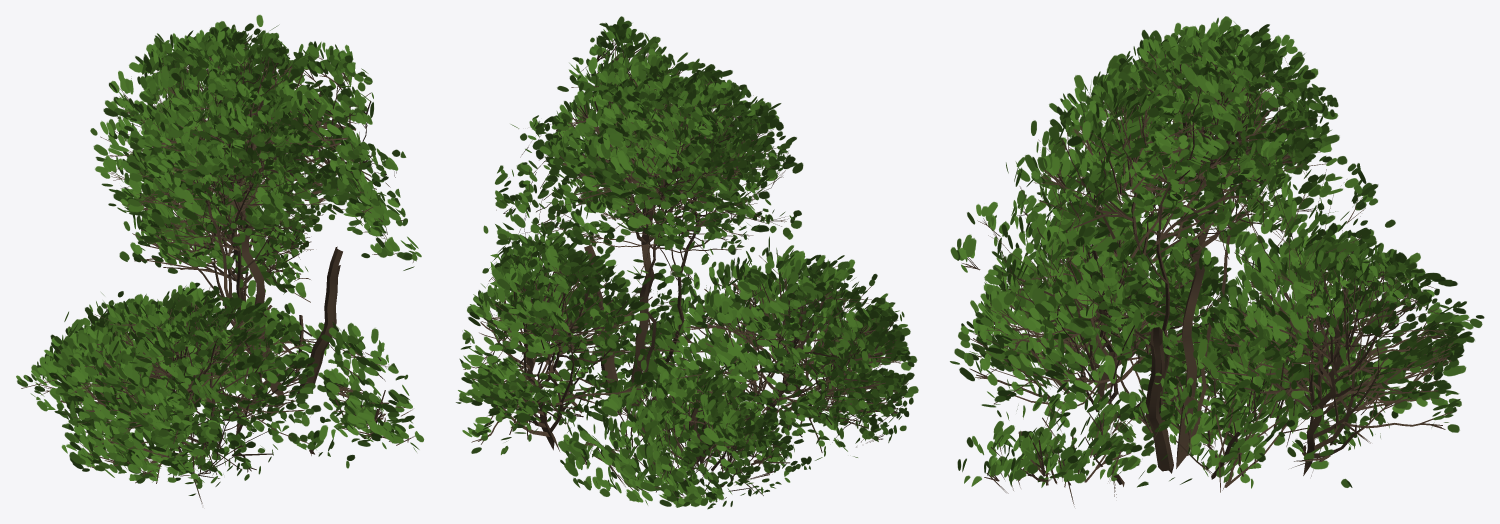
The picture shows the model from 3 angles, left to right: view 1: azimuth 30°, elevation 25°; view 2: azimuth 150°, elevation 25°; view 3: azimuth 270°, elevation 25°; orthographic projection. The views are drawn at different scales.
Visible parts, largest first — view 1: oak 01.001_trunk_Mat.001_0.415; view 2: oak 01.001_trunk_Mat.001_0.415; view 3: oak 01.001_trunk_Mat.001_0.415.
Part boxes in pixels (bbox=[...]): oak 01.001_trunk_Mat.001_0.415: bbox=[16, 14, 424, 503]; oak 01.001_trunk_Mat.001_0.415: bbox=[456, 16, 918, 509]; oak 01.001_trunk_Mat.001_0.415: bbox=[950, 16, 1484, 506].
Size of the model in its own units: 3.83 by 4.45 by 5.01.
Materials: 2 (1 with a texture image).
